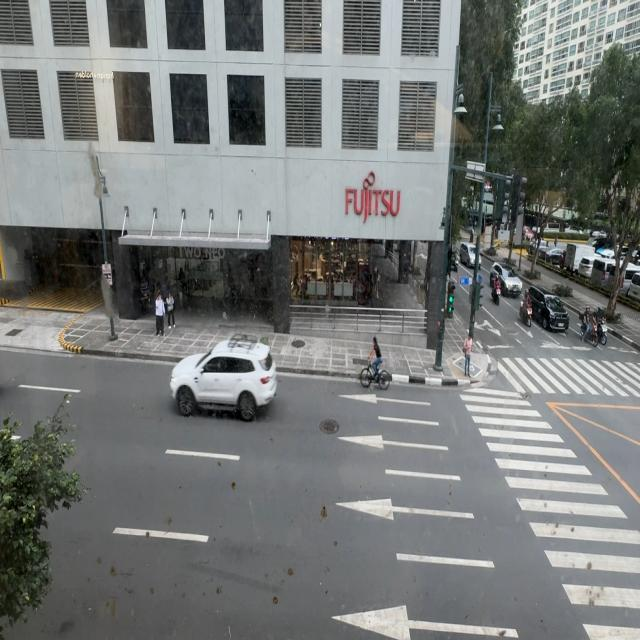waiting: (463, 331, 474, 377)
